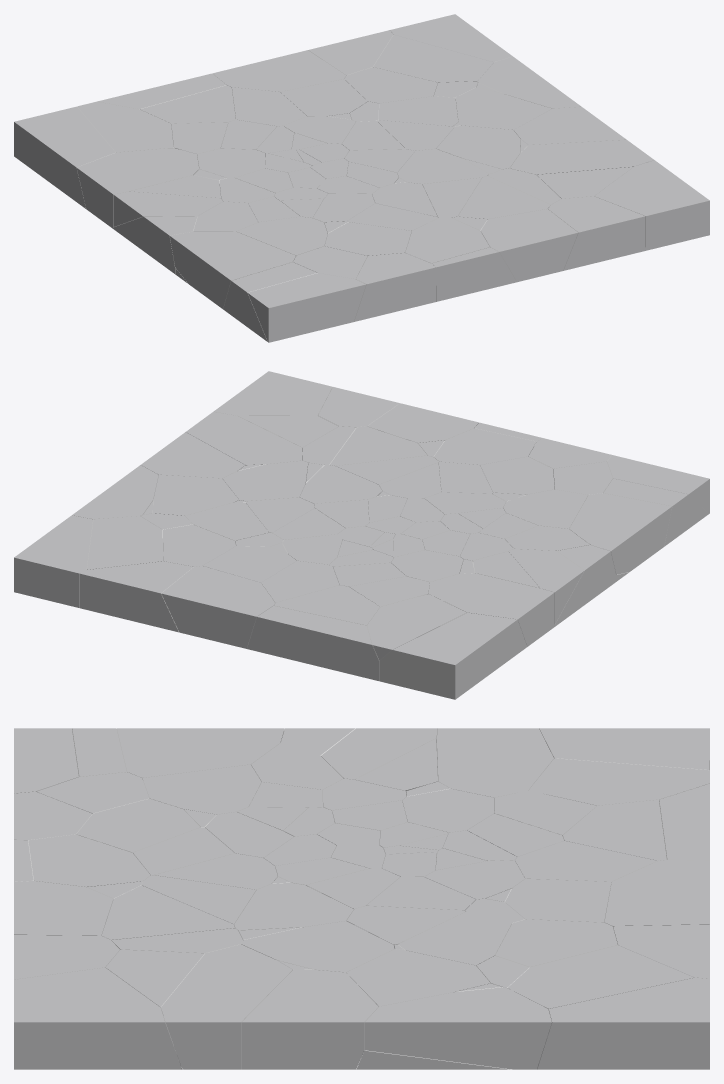
Rendered from Ceiling02_frac.fbx.
3 renders of one model, top to bottom at view 1: azimuth 30°, elevation 25°; view 2: azimuth 150°, elevation 25°; view 3: azimuth 270°, elevation 25°, orthographic. The views are drawn at different scales.
Visible parts, largest first — view 1: Ceiling02_cell.034, Ceiling02_cell.081, Ceiling02_cell.073, Ceiling02_cell.033, Ceiling02_cell.088, Ceiling02_cell.065, Ceiling02_cell.097, Ceiling02_cell.064, Ceiling02_cell.035, Ceiling02_cell.057, Ceiling02_cell.079, Ceiling02_cell.085 (+50 smaller); view 2: Ceiling02_cell.073, Ceiling02_cell.017, Ceiling02_cell.079, Ceiling02_cell.033, Ceiling02_cell.083, Ceiling02_cell.037, Ceiling02_cell.088, Ceiling02_cell.035, Ceiling02_cell.034, Ceiling02_cell.057, Ceiling02_cell.085, Ceiling02_cell.061 (+49 smaller); view 3: Ceiling02_cell.034, Ceiling02_cell.037, Ceiling02_cell.078, Ceiling02_cell.061, Ceiling02_cell.035, Ceiling02_cell.088, Ceiling02_cell.033, Ceiling02_cell.057, Ceiling02_cell.079, Ceiling02_cell.073, Ceiling02_cell.085, Ceiling02_cell.023 (+53 smaller).
Part boxes in pixels (x1,y1,x2,y2): Ceiling02_cell.034: (594, 160, 709, 250); Ceiling02_cell.081: (248, 273, 366, 342); Ceiling02_cell.073: (14, 106, 115, 208); Ceiling02_cell.033: (169, 231, 295, 308); Ceiling02_cell.088: (76, 148, 199, 228); Ceiling02_cell.065: (480, 209, 577, 282); Ceiling02_cell.097: (548, 196, 645, 270); Ceiling02_cell.064: (354, 253, 435, 321); Ceiling02_cell.035: (510, 139, 653, 174); Ceiling02_cell.057: (373, 35, 493, 82); Ceiling02_cell.079: (213, 50, 345, 91); Ceiling02_cell.085: (77, 101, 173, 152); Ceiling02_cell.073: (379, 612, 527, 699); Ceiling02_cell.017: (247, 606, 379, 680); Ceiling02_cell.079: (161, 566, 275, 648); Ceiling02_cell.033: (569, 493, 672, 574); Ceiling02_cell.083: (79, 561, 193, 632); Ceiling02_cell.037: (14, 515, 93, 607); Ceiling02_cell.088: (428, 573, 554, 646); Ceiling02_cell.035: (186, 411, 302, 465); Ceiling02_cell.034: (214, 371, 332, 415); Ceiling02_cell.057: (87, 516, 163, 569); Ceiling02_cell.085: (367, 594, 466, 660); Ceiling02_cell.061: (141, 432, 245, 478); Ceiling02_cell.034: (14, 967, 181, 1069); Ceiling02_cell.037: (537, 977, 709, 1069); Ceiling02_cell.078: (364, 987, 551, 1069); Ceiling02_cell.061: (241, 969, 378, 1069); Ceiling02_cell.035: (161, 944, 292, 1069); Ceiling02_cell.088: (436, 728, 553, 810); Ceiling02_cell.033: (117, 728, 284, 779); Ceiling02_cell.057: (508, 945, 694, 1008); Ceiling02_cell.079: (604, 859, 709, 926); Ceiling02_cell.073: (539, 728, 709, 770); Ceiling02_cell.085: (529, 758, 709, 805); Ceiling02_cell.023: (346, 949, 490, 1006).
Bounding box in the file's own units: 400 × 30 × 400.
